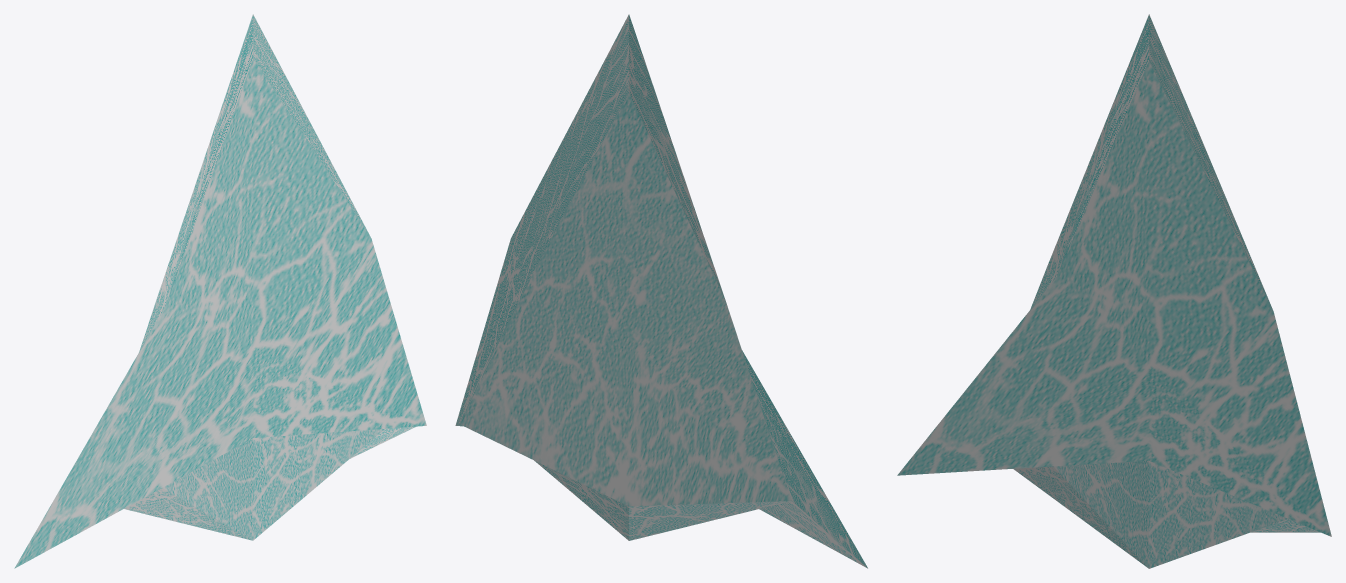
File: Simple.fbx
The picture shows the model from 3 angles, left to right: view 1: azimuth 30°, elevation 25°; view 2: azimuth 150°, elevation 25°; view 3: azimuth 330°, elevation 25°; orthographic projection. The views are drawn at different scales.
Visible parts, largest first — view 1: AuraPart; view 2: AuraPart; view 3: AuraPart.
Boxes of the visible parts, x1,y1,x2,y2 form: AuraPart: [14, 14, 426, 568]; AuraPart: [455, 14, 867, 568]; AuraPart: [897, 14, 1331, 568].
Size of the model in its own units: 4.31 by 5.25 by 0.00607.
